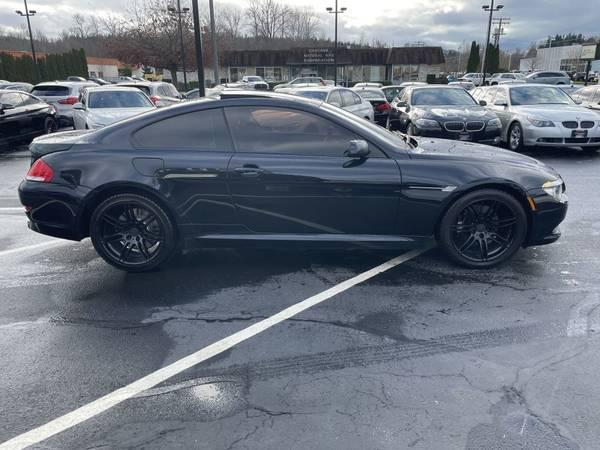Front_Bumper: (525, 190, 569, 245)
Front_Fender: (395, 156, 557, 237)
Front_Right_Door: (225, 151, 399, 244)
Front_Right_Window: (223, 106, 391, 158)
Hood: (407, 134, 555, 181)
Rear_Bumper: (18, 182, 86, 245)
Rear_Fender: (27, 107, 249, 249)
Right_Headlight: (542, 175, 569, 204)
Right_Taillight: (26, 158, 52, 183)
Roof: (77, 91, 404, 156)
Wheel: (439, 187, 526, 267), (90, 197, 179, 275)
